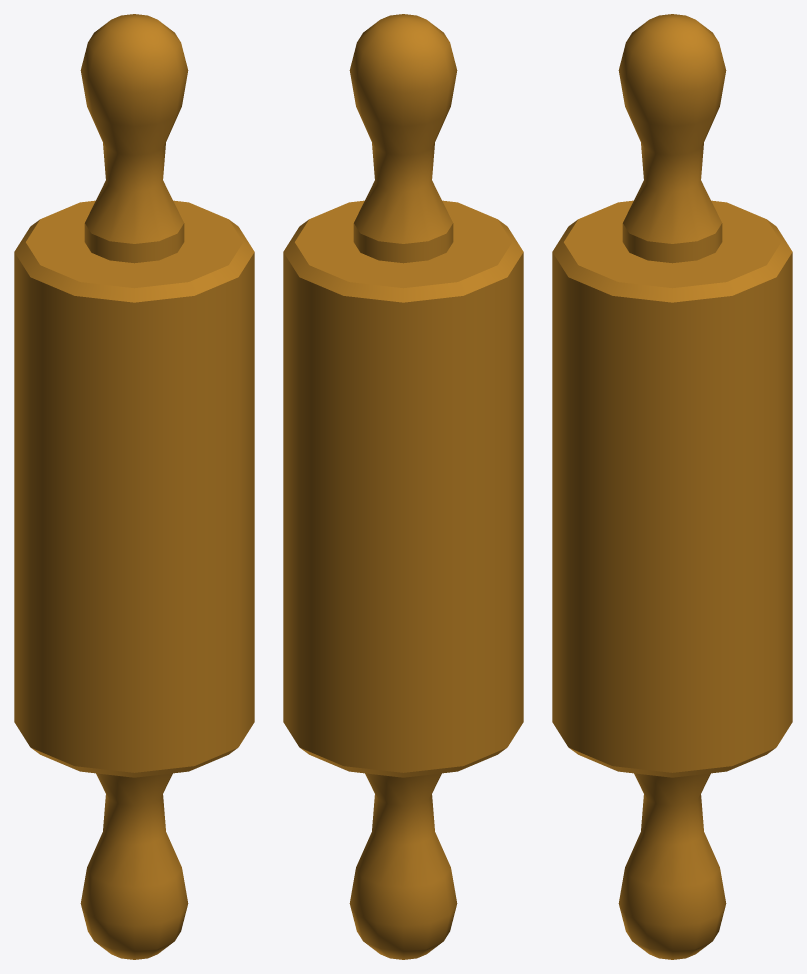
Rendered from RollingPin.FBX.
3 views of the same model, side by side, from view 1: azimuth 30°, elevation 25°; view 2: azimuth 150°, elevation 25°; view 3: azimuth 270°, elevation 25° (orthographic).
Parts seen in each view (by area): view 1: RollingPin; view 2: RollingPin; view 3: RollingPin.
Boxes of the visible parts, bbox=[...] form: RollingPin: bbox=[14, 14, 254, 959]; RollingPin: bbox=[283, 14, 523, 959]; RollingPin: bbox=[552, 14, 792, 959].
Size of the model in its own units: 36.87 by 158 by 36.87.
